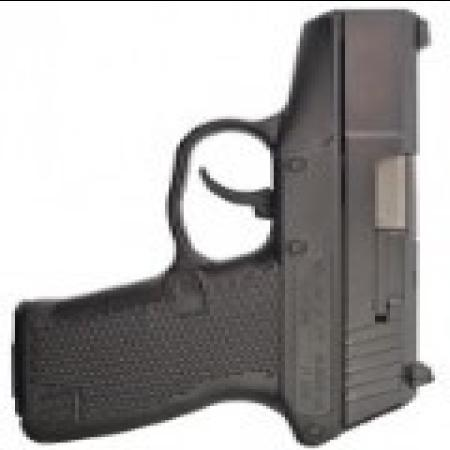Pistol: (19, 11, 435, 441)
